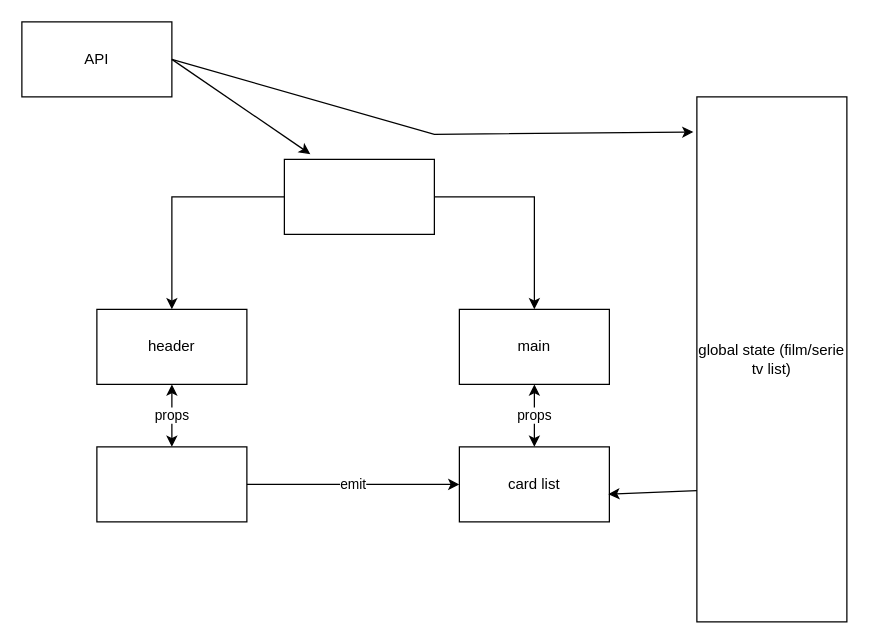
Image size: 869x644. Some labels were removed from this diagram. The centre of each missing label's shape, as x and y in pixels:
app: point 358,196
search bar: point 171,484
